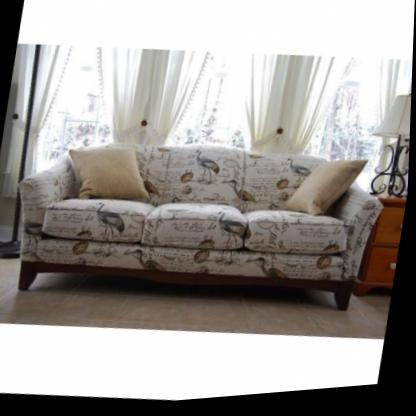Sofa: (0, 113, 393, 340)
